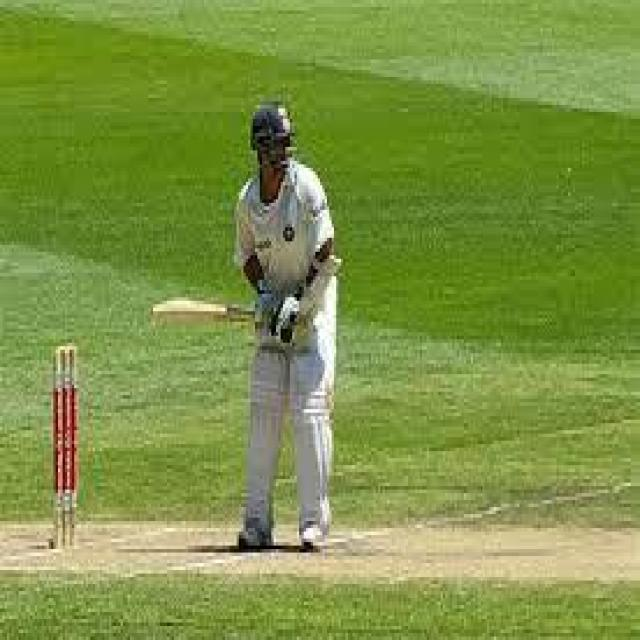bat: (144, 296, 246, 330)
toe: (145, 299, 170, 323)
